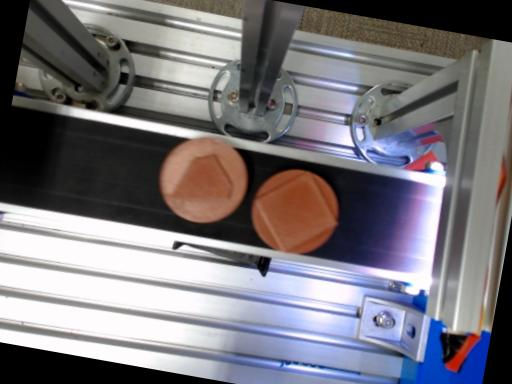Brown_Waper: (159, 139, 247, 223), (251, 169, 339, 253)
